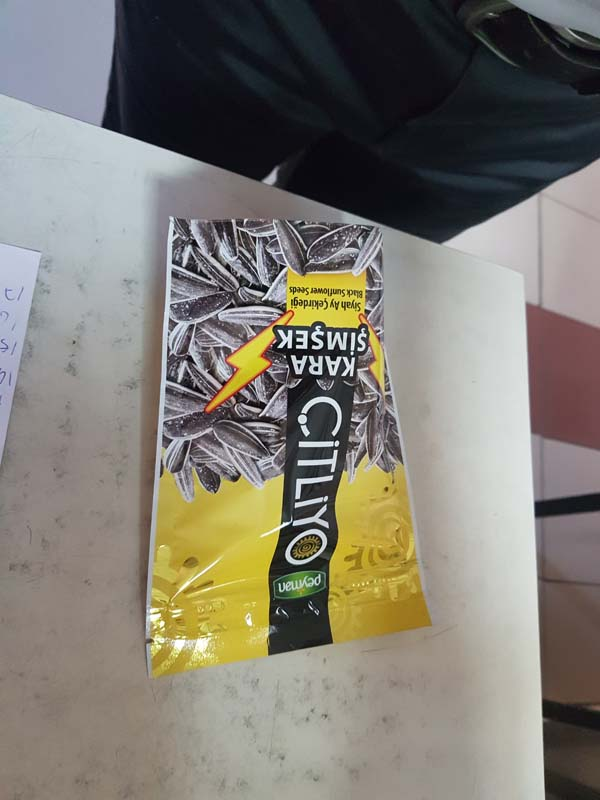citliyokarasimsek: (143, 211, 442, 684)
